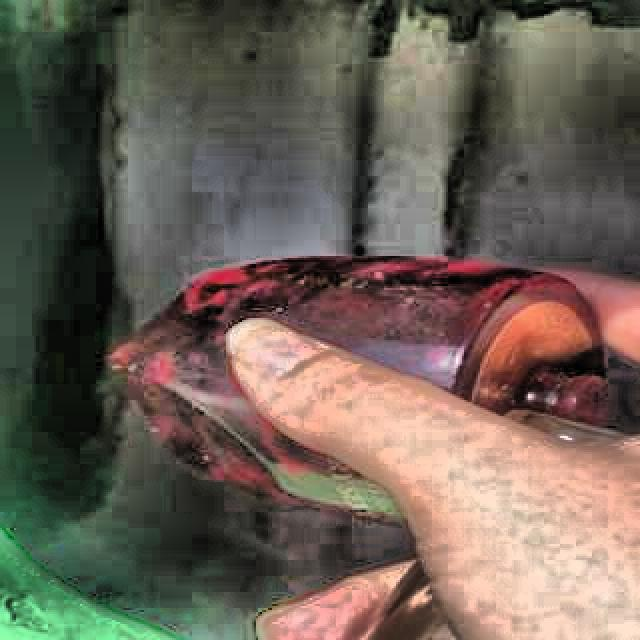glass: (115, 258, 621, 513)
